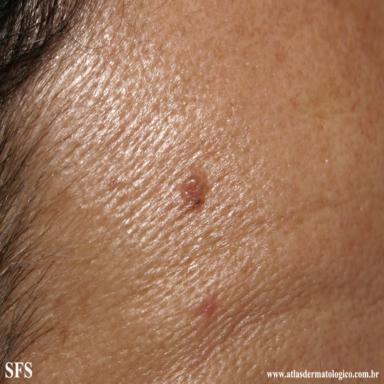basal-cell-carcinoma: (181, 172, 208, 207)
